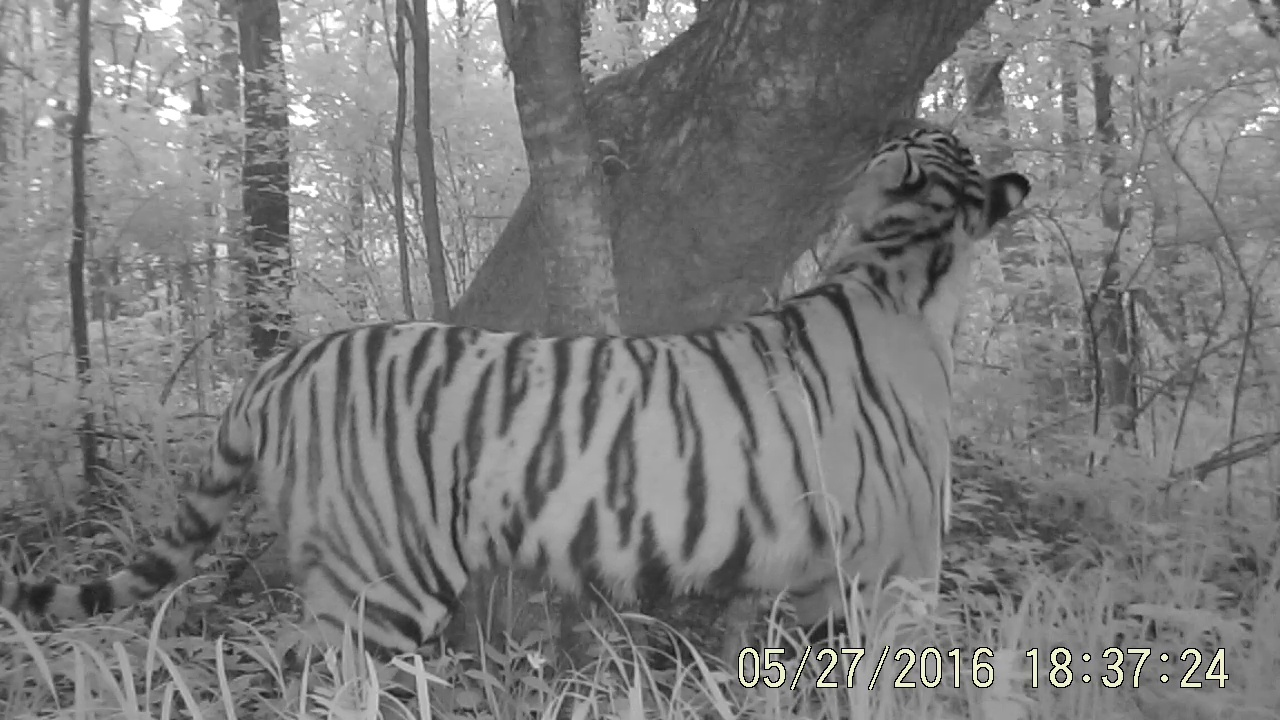Tiger: (76, 92, 1047, 705)
